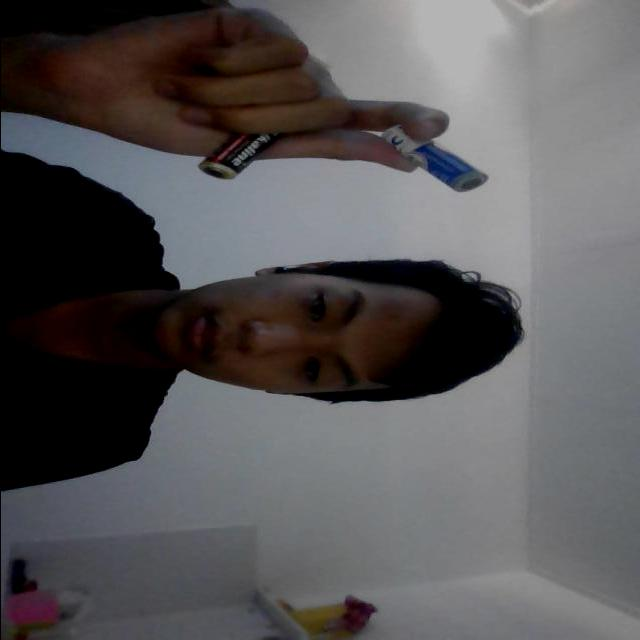AA: (356, 116, 510, 192), (180, 122, 296, 190)
